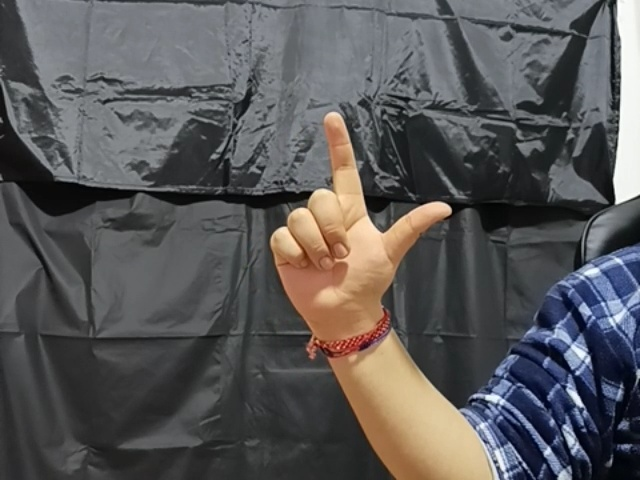L: (268, 113, 455, 314)
